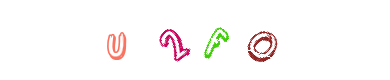0: (183, 0, 263, 80)
2: (154, 0, 234, 80)
F: (176, 0, 256, 80)
U: (124, 0, 204, 80)
